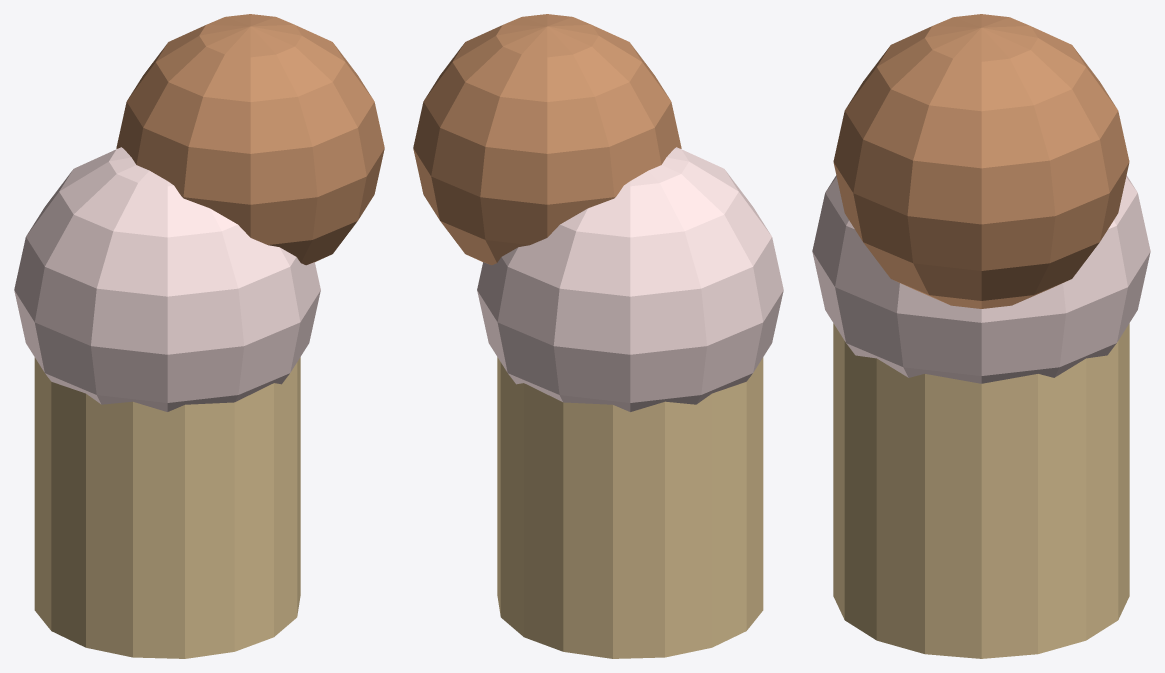
File: ice-cream.glb
3 views of the same model, side by side, from view 1: azimuth 30°, elevation 25°; view 2: azimuth 150°, elevation 25°; view 3: azimuth 270°, elevation 25° (orthographic). The views are drawn at different scales.
Bounding box in the file's own units: 0.2 × 0.32 × 0.16.
